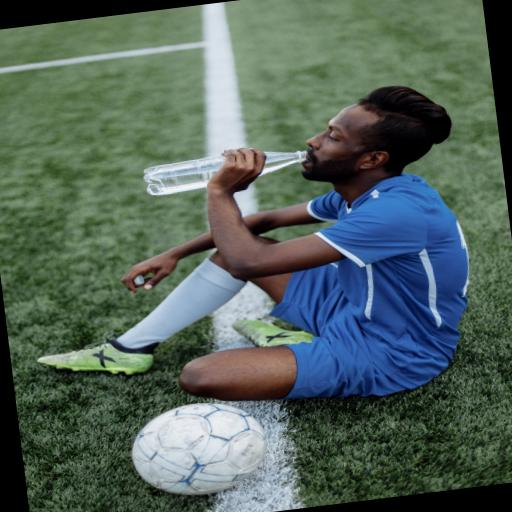shoe: (38, 332, 155, 374), (232, 320, 314, 347)
